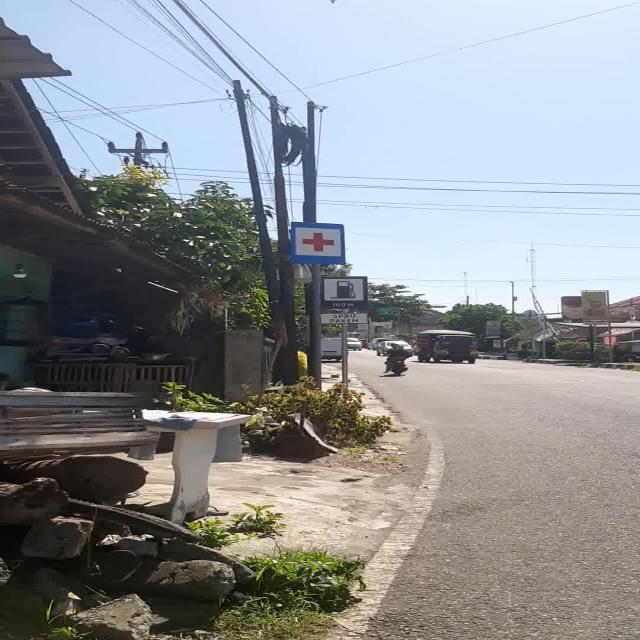Balai Pertolongan Pertama: (291, 222, 346, 264)
Pom Bensin: (320, 276, 368, 308)
